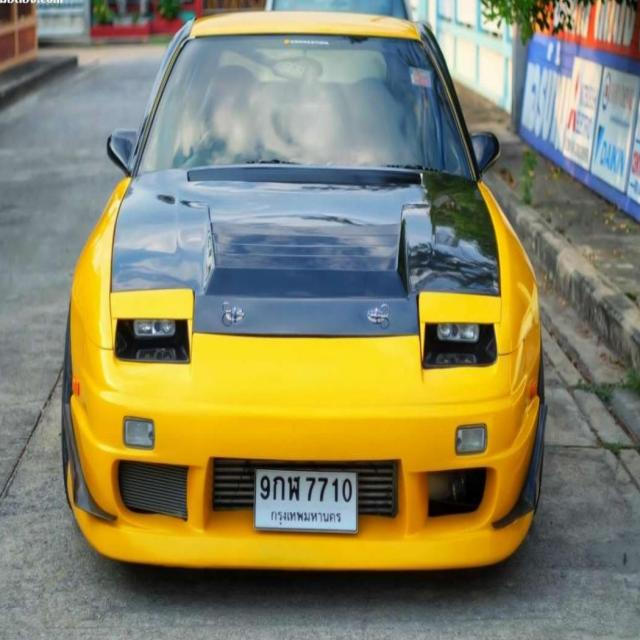license_plate: (253, 461, 360, 538)
